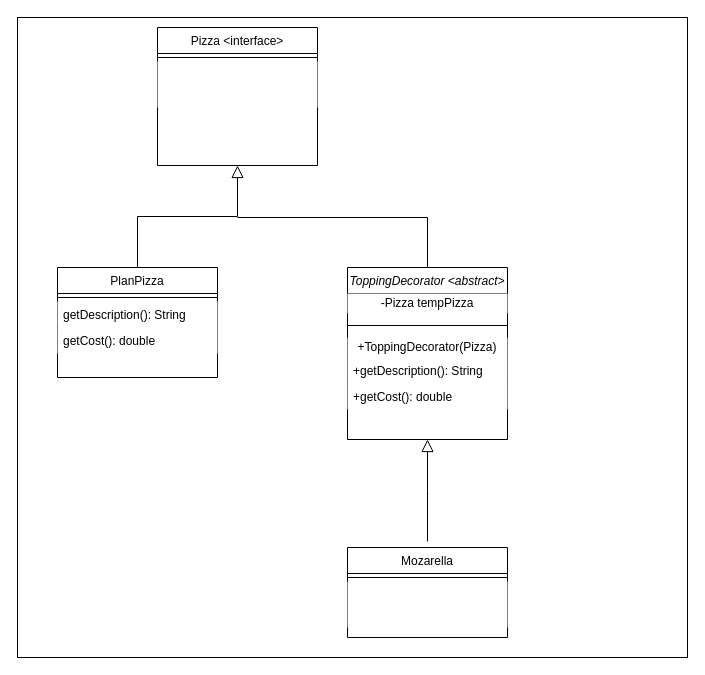
The diagram is 705 pixels wide and 675 high, and some of its shapes have lost their labels. The centre of each missing label's shape, as x and y in pixels:
+Mozarella(Pizza) +getDescription(): String +getCost(): double: the point at 427,604
getDescription(): String getCost(): double: the point at 237,84
